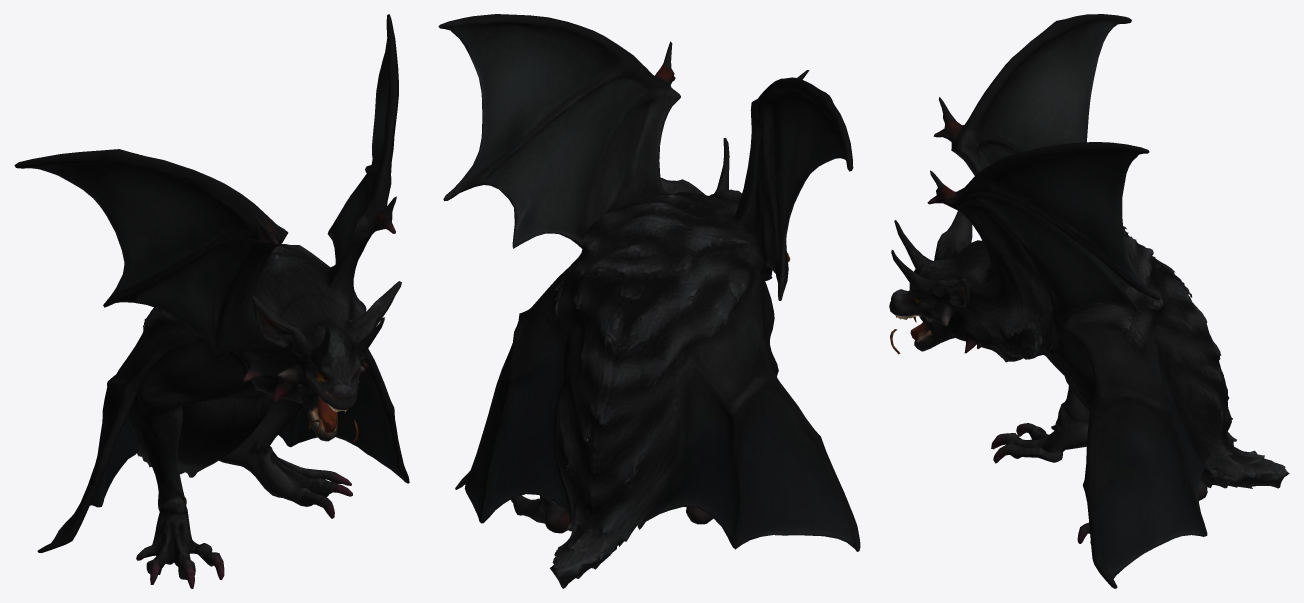
File: matriarch.glb
3 views of the same model, side by side, from view 1: azimuth 30°, elevation 25°; view 2: azimuth 150°, elevation 25°; view 3: azimuth 270°, elevation 25° (orthographic). The views are drawn at different scales.
Parts seen in each view (by area): view 1: world; view 2: world; view 3: world.
Part boxes in pixels (bbox=[...]): world: bbox=[14, 14, 409, 588]; world: bbox=[438, 14, 860, 588]; world: bbox=[889, 14, 1289, 588].
Bounding box in the file's own units: 0.875 × 0.99 × 0.8185.
1 material, 1 textured.
